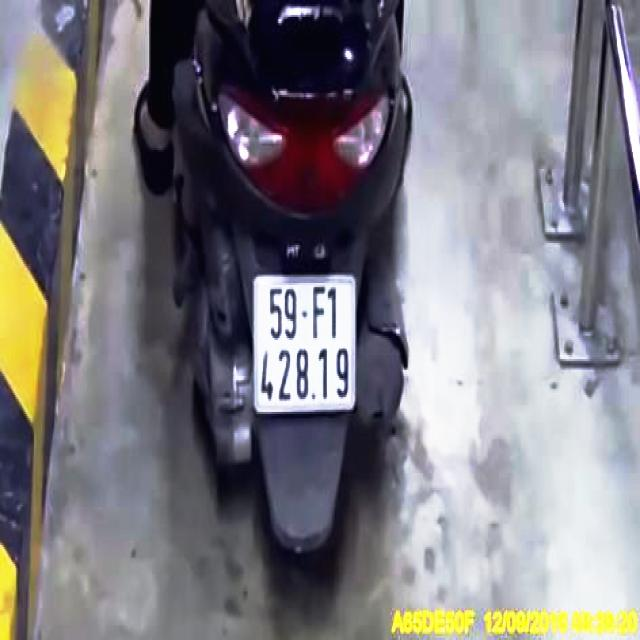license_plate: (252, 281, 358, 414)
